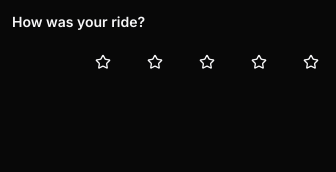
Scenario: rider experience › rating saves numbers only
The width and height of the screenshot is (336, 172).
Step 1. Click the radio button named "4 stars" → [259, 62], box [237, 40, 281, 84]
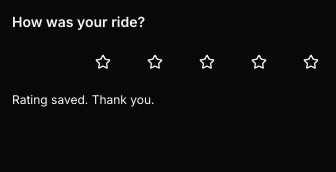
Check: the text "Rating saved. Thank you." is shown, box [12, 92, 154, 107]
